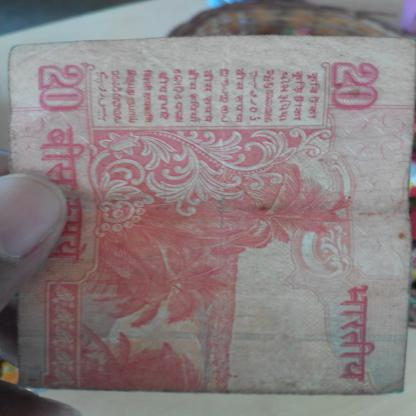Old20Back: (7, 47, 410, 391)
